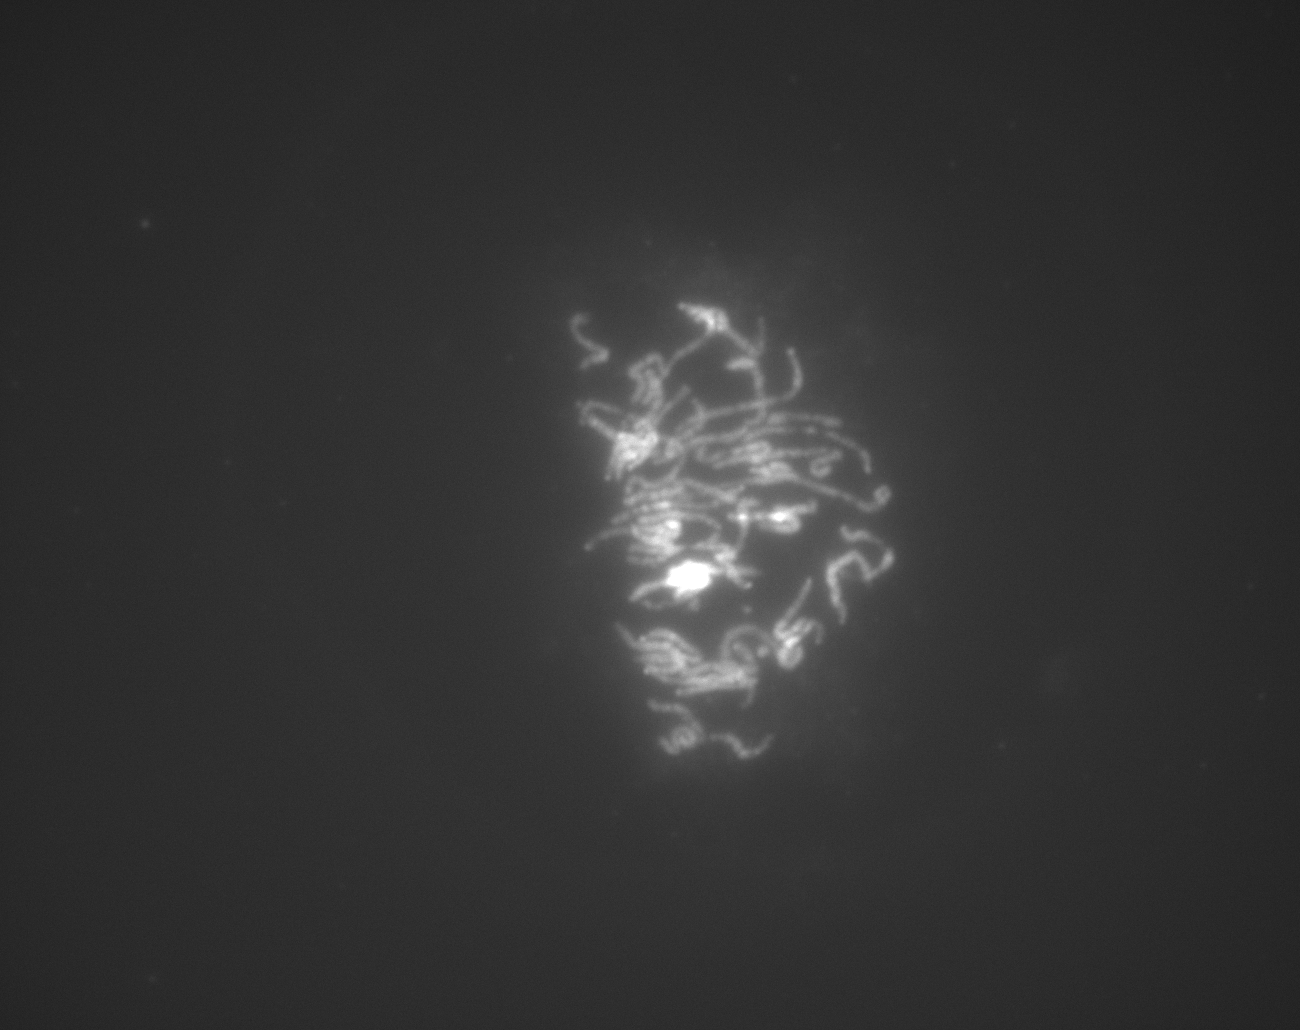Chromosomes: (525, 239, 928, 798)
